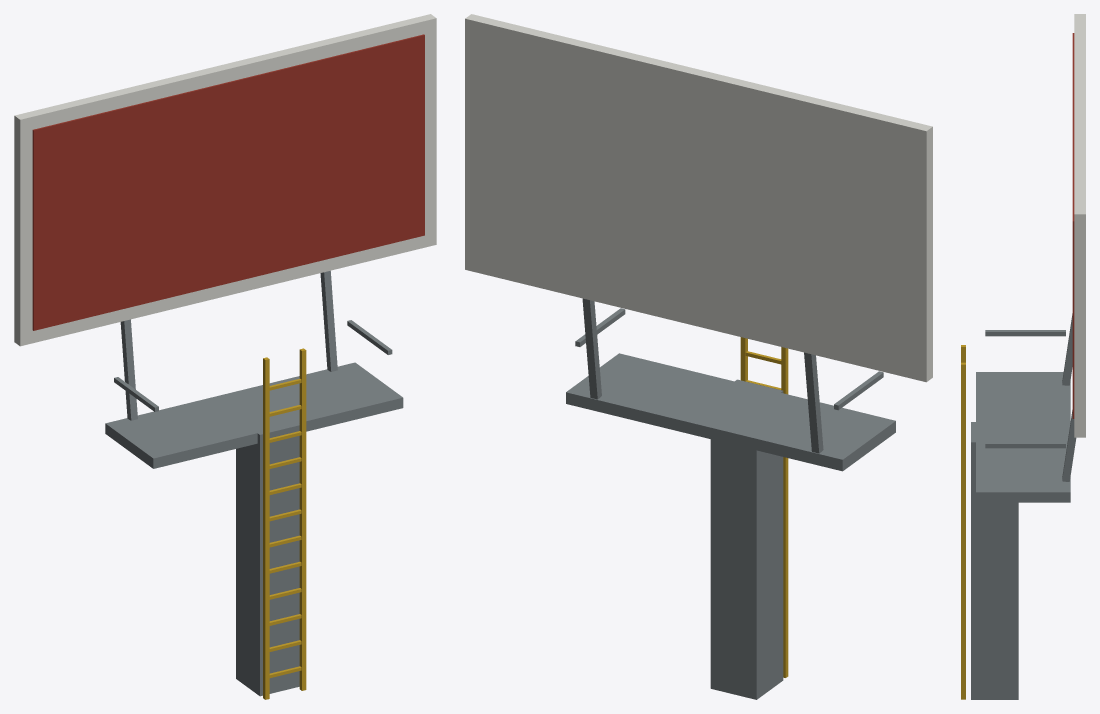
Rendered from billboard.glb.
3 renders of one model, left to right at view 1: azimuth 30°, elevation 25°; view 2: azimuth 150°, elevation 25°; view 3: azimuth 270°, elevation 25°, orthographic. The views are drawn at different scales.
Parts seen in each view (by area): view 1: billboard; view 2: billboard; view 3: billboard.
Part boxes in pixels (box(x1,y1,x2,y2)): billboard: box(14, 14, 436, 699); billboard: box(465, 14, 932, 699); billboard: box(961, 14, 1085, 699).
Bounding box in the file's own units: 5 × 6.7 × 1.31.
